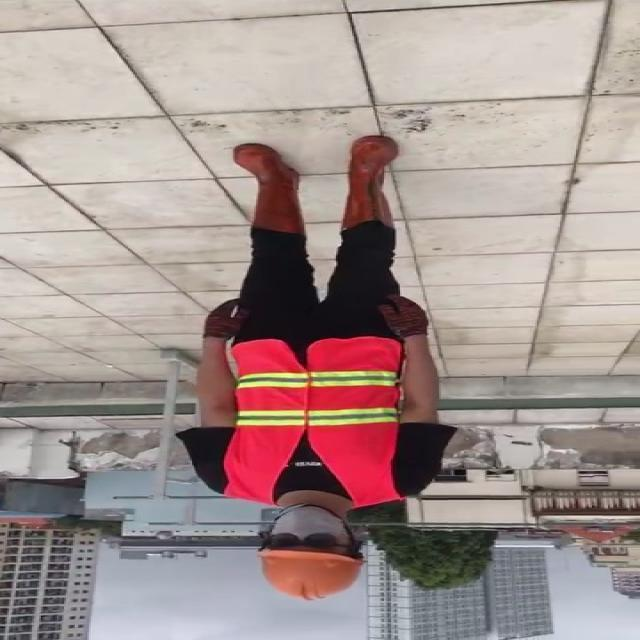Boots: (231, 143, 302, 235), (338, 136, 400, 232)
Gloves: (193, 298, 260, 342), (376, 296, 435, 338)
Helmet: (248, 548, 366, 599)
Vest: (228, 336, 404, 506)
